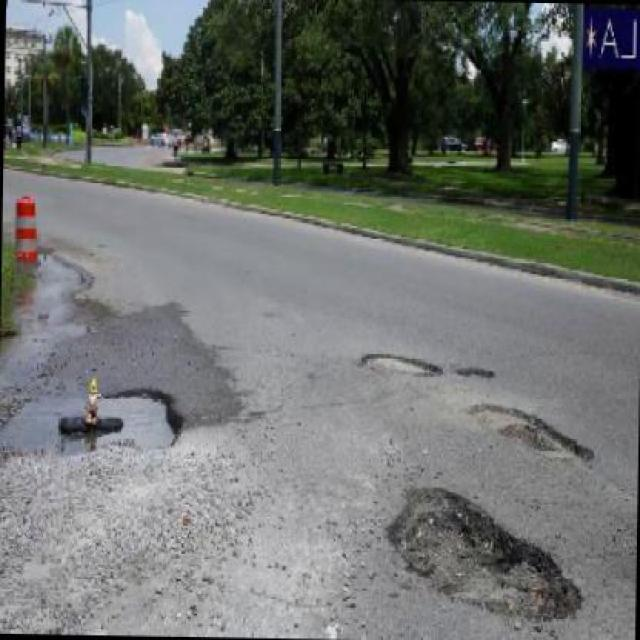pothole: (384, 484, 585, 630), (0, 377, 188, 465), (467, 400, 596, 466), (361, 351, 444, 374), (455, 365, 497, 381)
